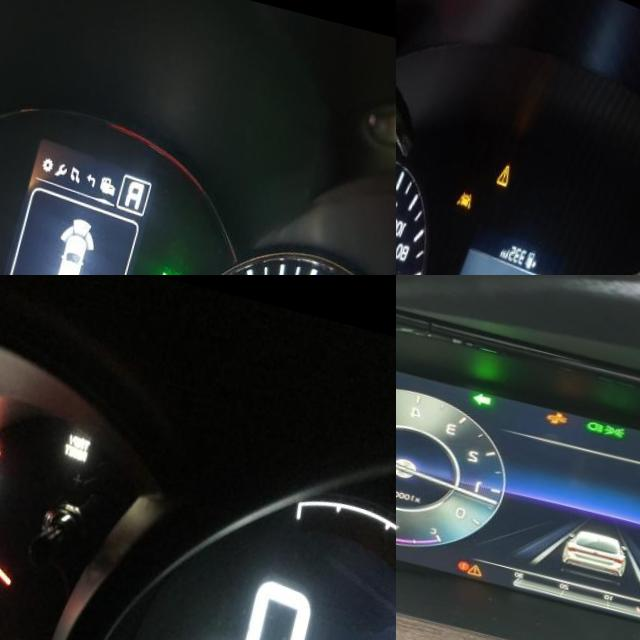Central Warning lamp: (505, 144, 525, 173), (488, 545, 506, 560)
LaneCenteringOff: (467, 174, 487, 195)
Low beam: (599, 398, 619, 412)
SideLamp: (172, 251, 198, 275), (617, 400, 640, 416)
